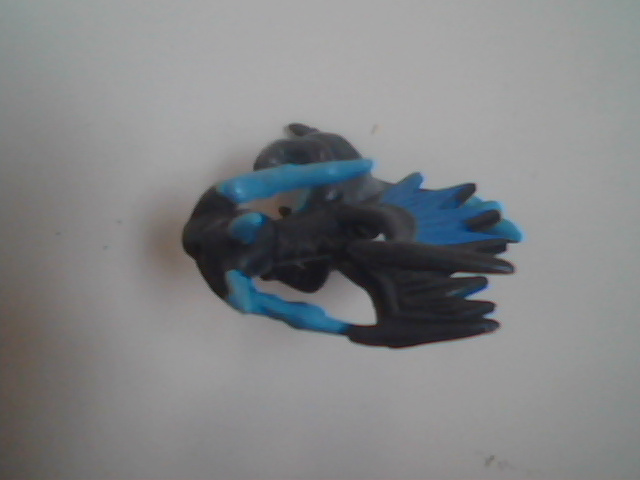charizard: (149, 40, 522, 408)
